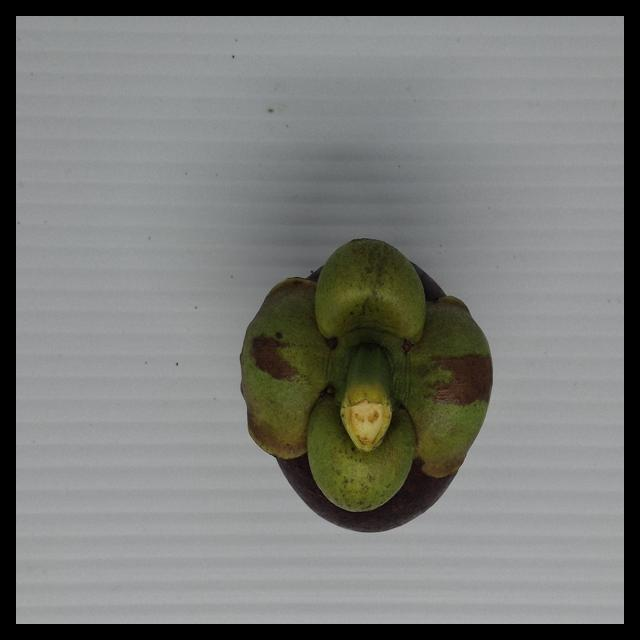mangosteen: (209, 230, 537, 570)
